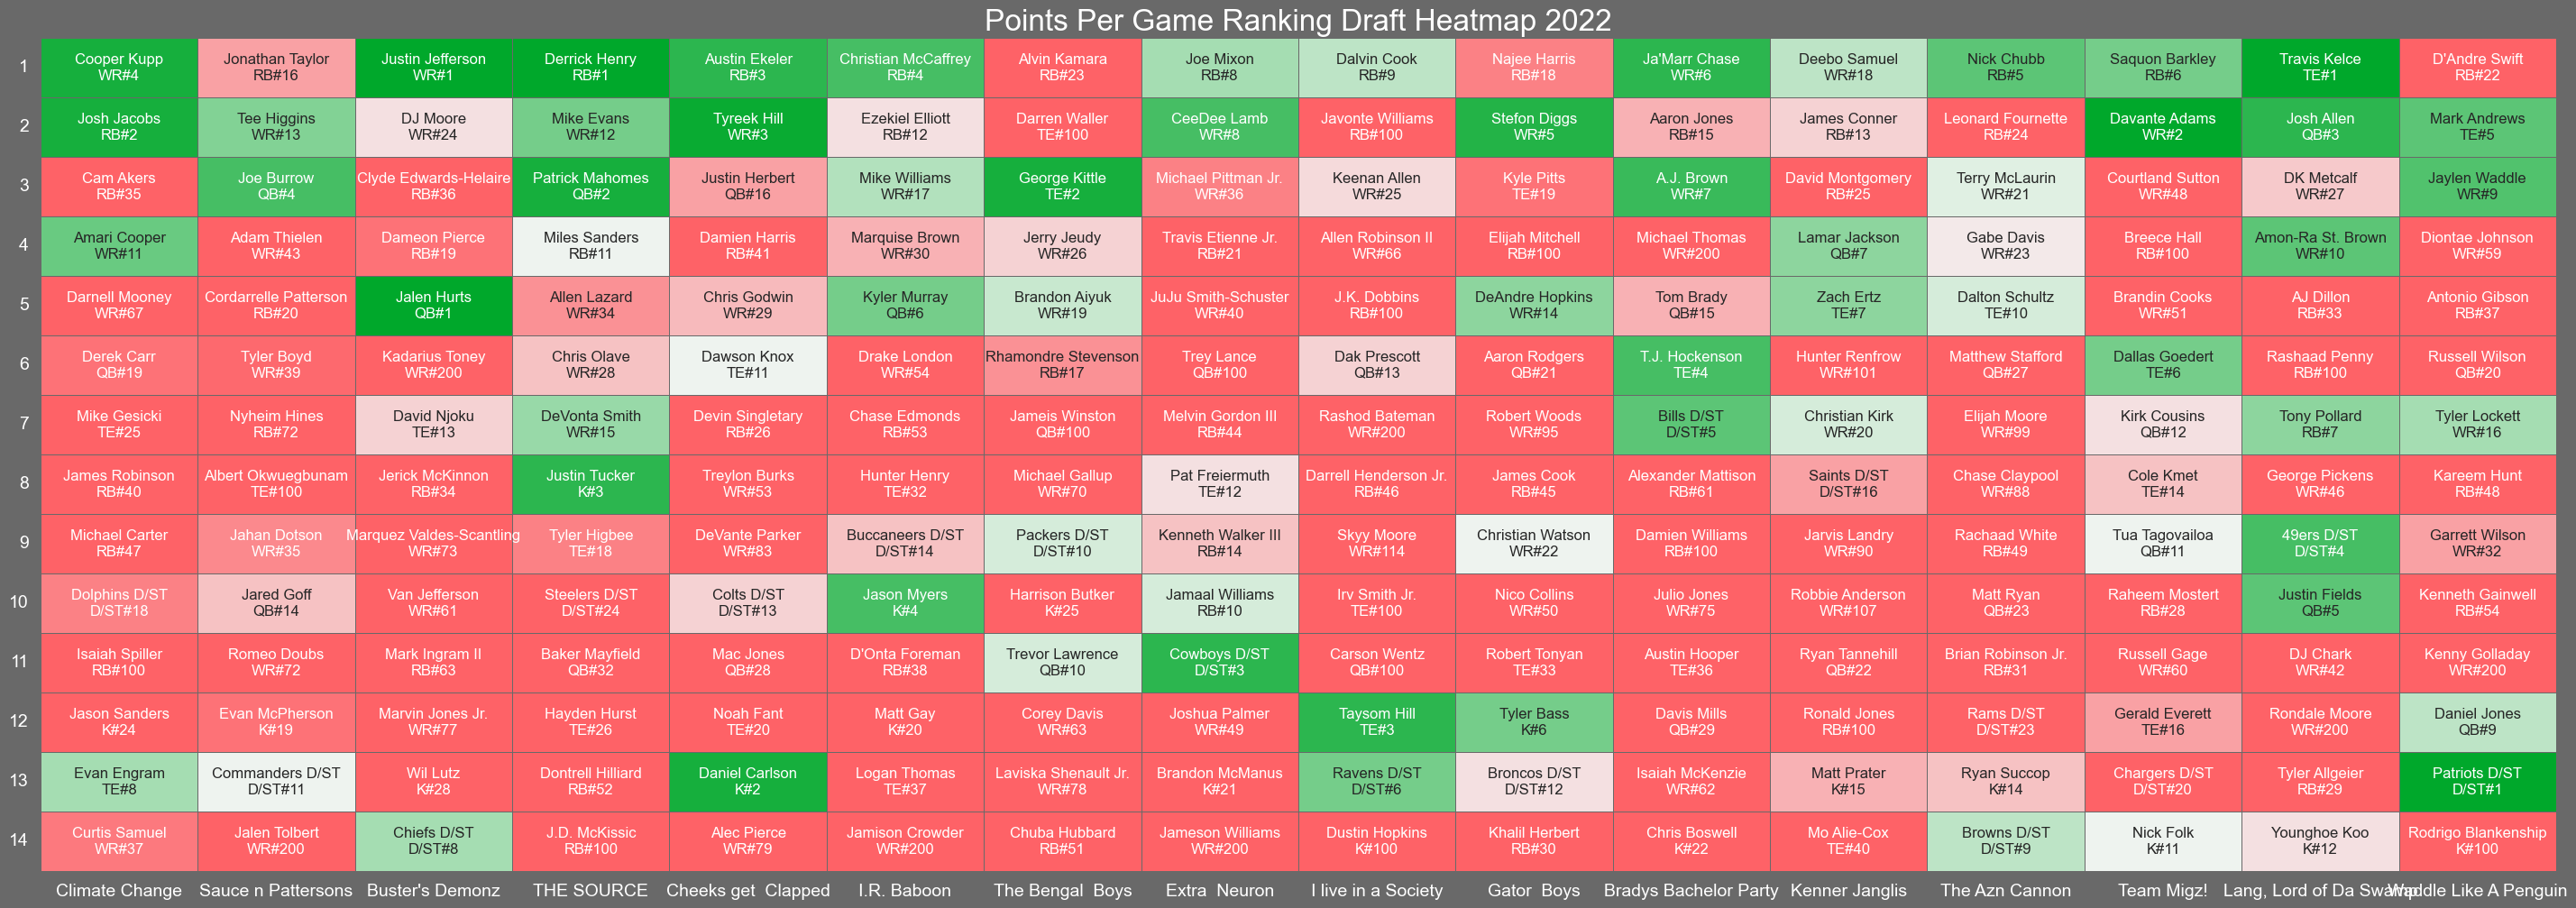

The page's visual inventory and layout, read from the dashboard file:
{"tool":"powerbi","page":{"name":"Page 3","canvas":[1280,720],"ordinal":2},"visuals":[{"type":"pivotTable","fields":{"Rows":["Query1.round","Query1.playername"],"Columns":["Query1.pick"],"Values":["Sum(Query1.total)"]},"box":[0,0,1280,720],"z":1}]}

Visuals, with their boxes on the page's 1280x720 design canvas (x1, y1, x2, y2). These are canvas units, not pixel positions in the 2576x908 screenshot, which may show the page scaled, cropped or inside an application window:
pivotTable - Query1.round x Query1.playername: detection(0, 0, 1280, 720)
